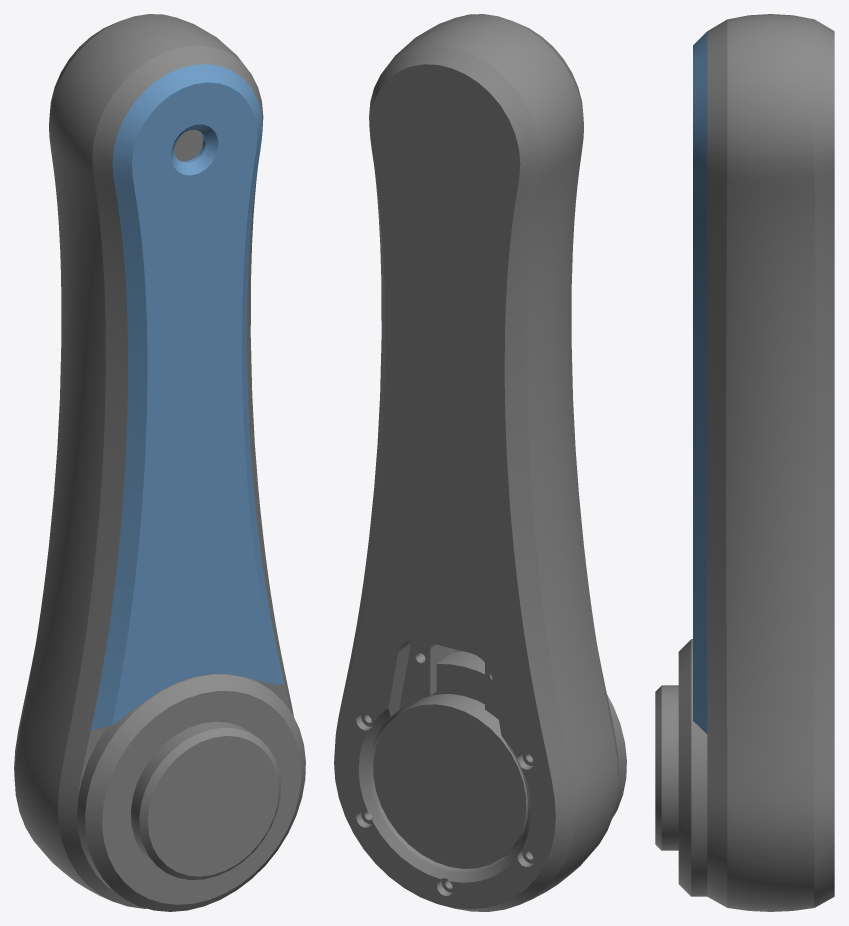
Rendered from calf_r.dae.
The picture shows the model from 3 angles, left to right: view 1: azimuth 30°, elevation 25°; view 2: azimuth 150°, elevation 25°; view 3: azimuth 270°, elevation 25°; orthographic projection.
Parts seen in each view (by area): view 1: calf; view 2: calf; view 3: calf.
Part boxes in pixels (box(x1,y1,x2,y2)): calf: box(14, 14, 305, 911); calf: box(334, 14, 626, 911); calf: box(655, 14, 834, 911).
Bounding box in the file's own units: 0.0904 × 0.0563 × 0.303.
